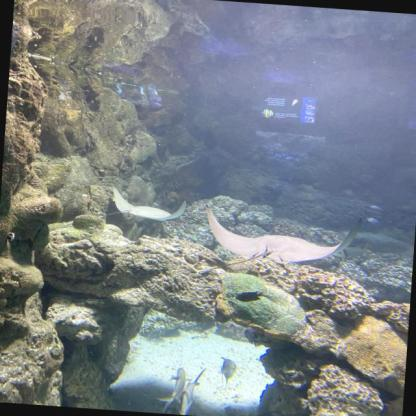fish: (178, 366, 205, 416), (156, 366, 187, 403), (218, 356, 236, 380), (235, 290, 262, 302), (243, 327, 259, 346)
stingray: (204, 205, 362, 268), (110, 187, 186, 222)
